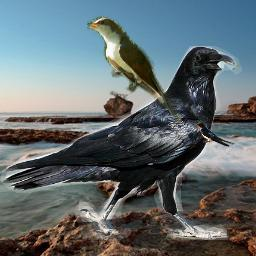Crow: (1, 46, 242, 240)
Cuckoo: (87, 15, 182, 125)
Swallow: (194, 121, 235, 147)
